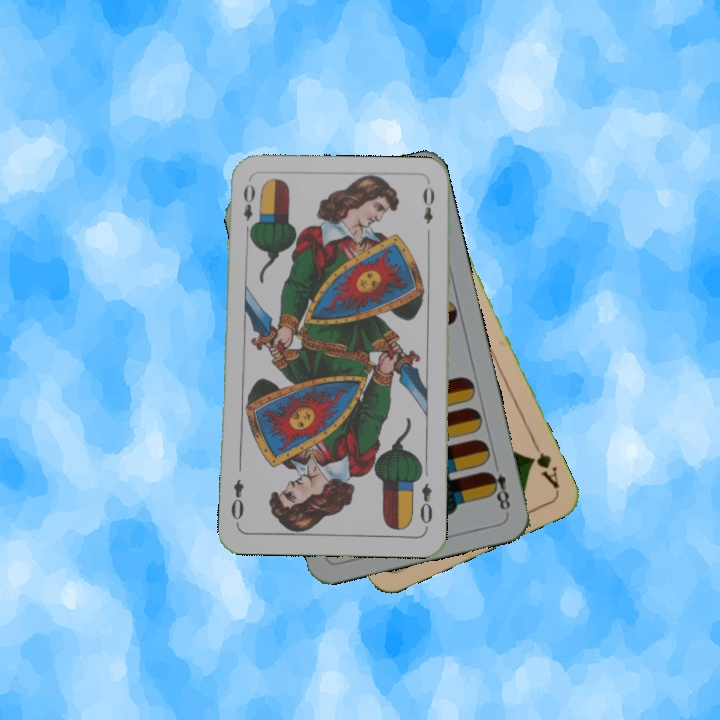E8: (483, 457, 513, 513)
EO: (239, 180, 258, 238), (416, 479, 435, 531)
GA: (525, 437, 562, 491)
